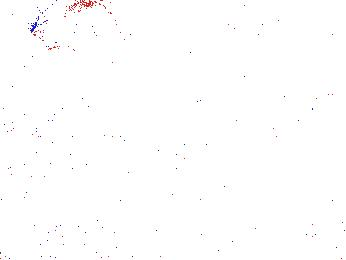moon jellyfish: (2, 108, 88, 193), (29, 2, 123, 69), (250, 42, 346, 98), (91, 9, 186, 47), (222, 17, 306, 58)
